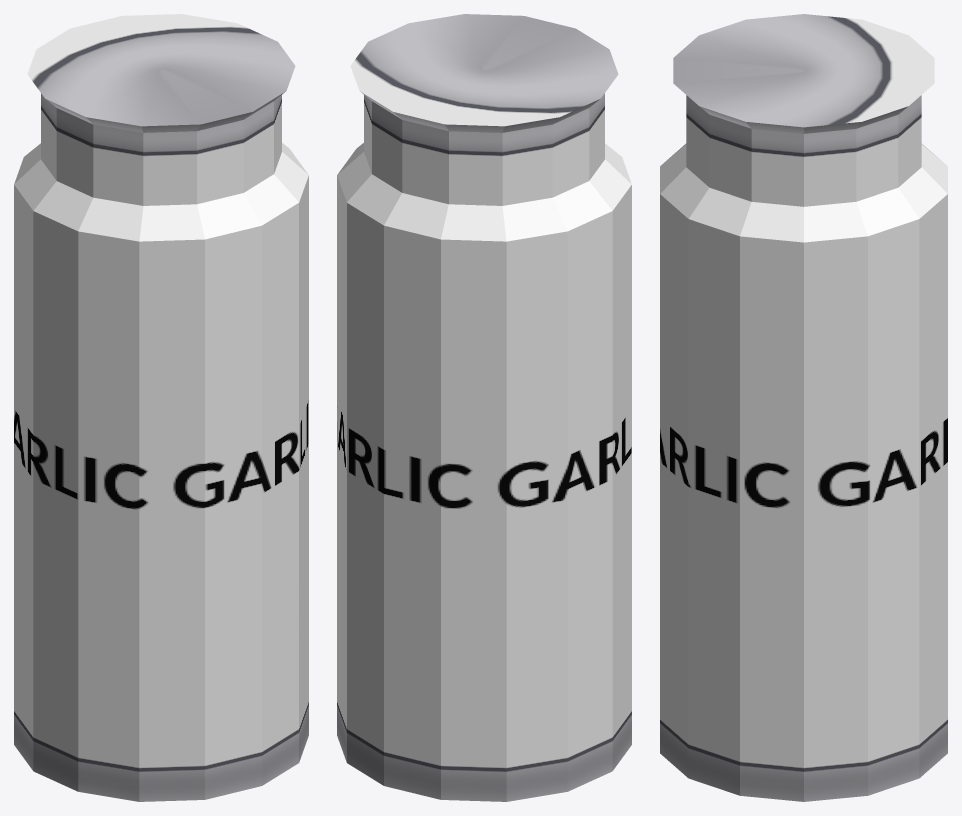
Rendered from spice_garlic.obj.
The picture shows the model from 3 angles, left to right: view 1: azimuth 30°, elevation 25°; view 2: azimuth 150°, elevation 25°; view 3: azimuth 270°, elevation 25°; orthographic projection.
Visible parts, largest first — view 1: spice_garlic; view 2: spice_garlic; view 3: spice_garlic.
Part boxes in pixels (x1,y1,x2,y2): spice_garlic: (14,14,308,801); spice_garlic: (337,14,631,801); spice_garlic: (660,14,947,801).
Bounding box in the file's own units: 0.044 × 0.11 × 0.0429.
1 material, 1 textured.
